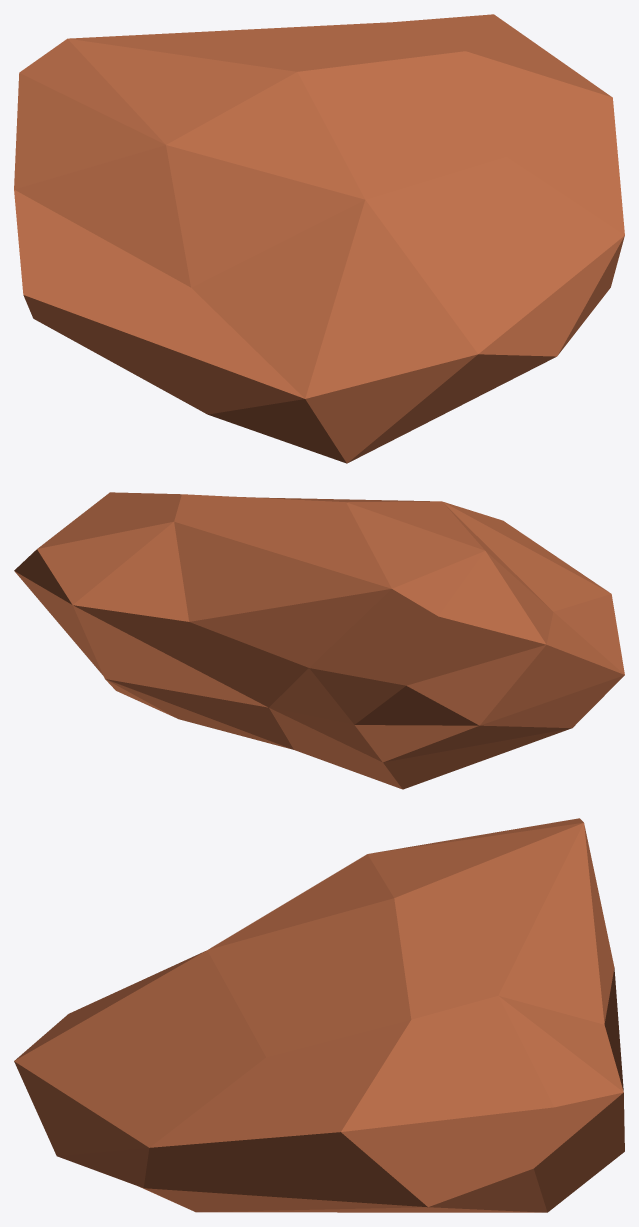
File: Large_FlatRock2.fbx
The picture shows the model from 3 angles, top to bottom: view 1: azimuth 30°, elevation 25°; view 2: azimuth 150°, elevation 25°; view 3: azimuth 270°, elevation 25°; orthographic projection. The views are drawn at different scales.
Visible parts, largest first — view 1: Large_FlatRock2; view 2: Large_FlatRock2; view 3: Large_FlatRock2.
Boxes of the visible parts, left/top/right/bottom form: Large_FlatRock2: left=14, top=14, right=624, bottom=463; Large_FlatRock2: left=14, top=492, right=624, bottom=789; Large_FlatRock2: left=14, top=818, right=624, bottom=1212.
Bounding box in the file's own units: 7.61 × 3.24 × 6.3.
